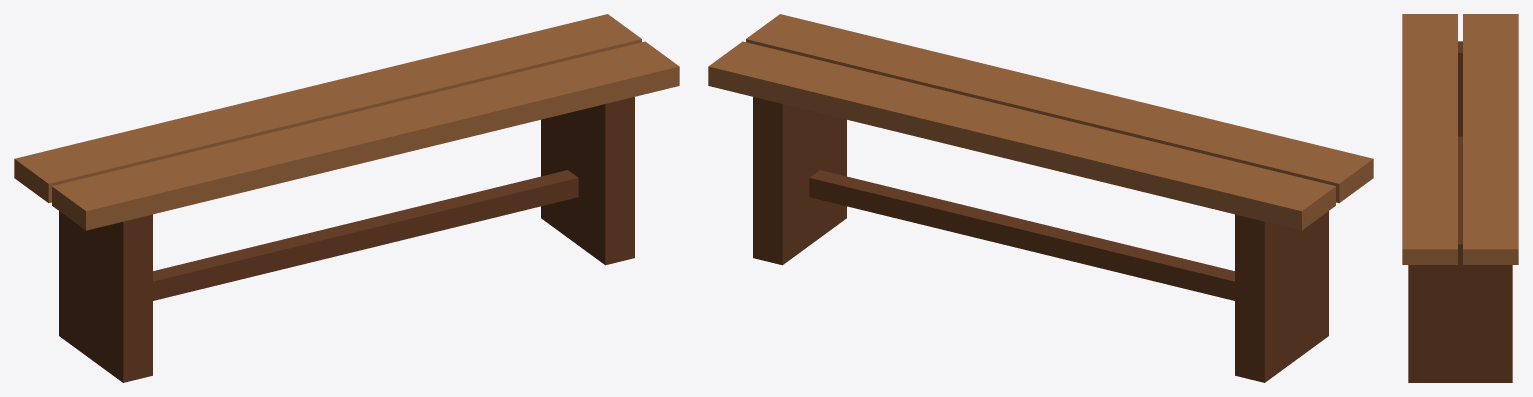
File: bench.glb
3 renders of one model, left to right at view 1: azimuth 30°, elevation 25°; view 2: azimuth 150°, elevation 25°; view 3: azimuth 270°, elevation 25°, orthographic. The views are drawn at different scales.
Parts seen in each view (by area): view 1: props/bench; view 2: props/bench; view 3: props/bench.
Boxes of the visible parts, left/top/right/bottom form: props/bench: left=14, top=14, right=679, bottom=382; props/bench: left=708, top=14, right=1373, bottom=382; props/bench: left=1402, top=14, right=1518, bottom=382.
Bounding box in the file's own units: 1.6 × 0.475 × 0.335.
